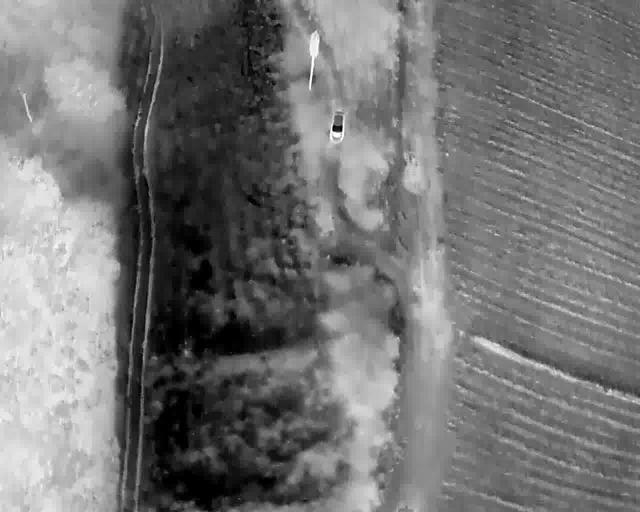car: (330, 110, 343, 140)
